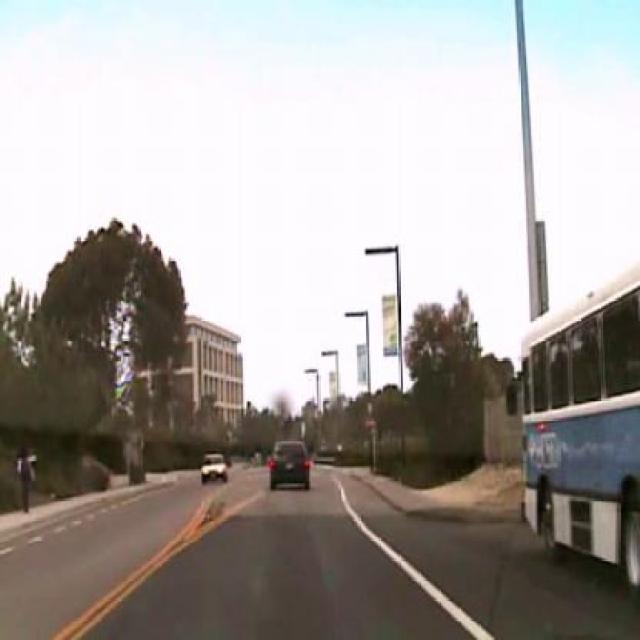stop: (363, 415, 376, 434)
